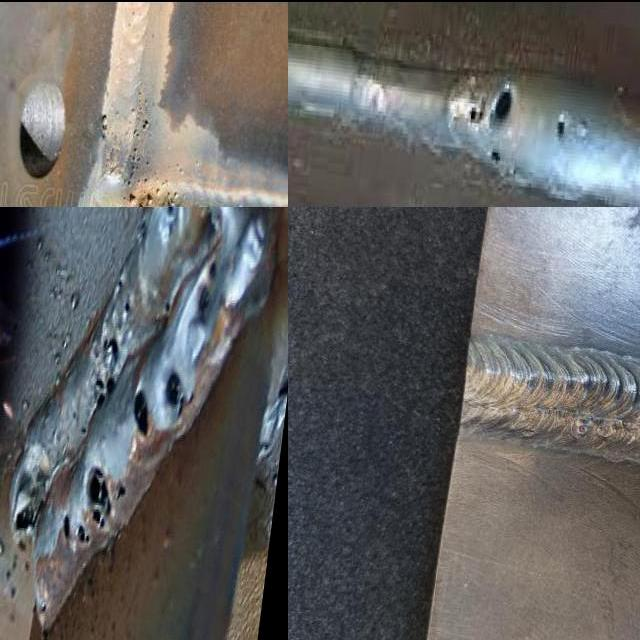defect: (56, 464, 132, 550), (124, 145, 189, 205), (11, 463, 49, 536), (467, 80, 517, 125), (163, 366, 194, 422), (131, 383, 153, 449), (92, 371, 117, 411), (484, 139, 506, 177), (550, 109, 570, 142), (101, 329, 120, 363), (98, 103, 111, 147), (195, 281, 210, 316), (131, 115, 152, 140), (596, 414, 614, 440), (572, 415, 589, 440), (138, 216, 148, 241), (208, 257, 218, 278), (39, 595, 47, 615), (79, 423, 89, 439), (164, 205, 175, 219), (72, 409, 80, 427), (164, 298, 172, 312), (124, 298, 130, 315), (118, 278, 122, 288)
